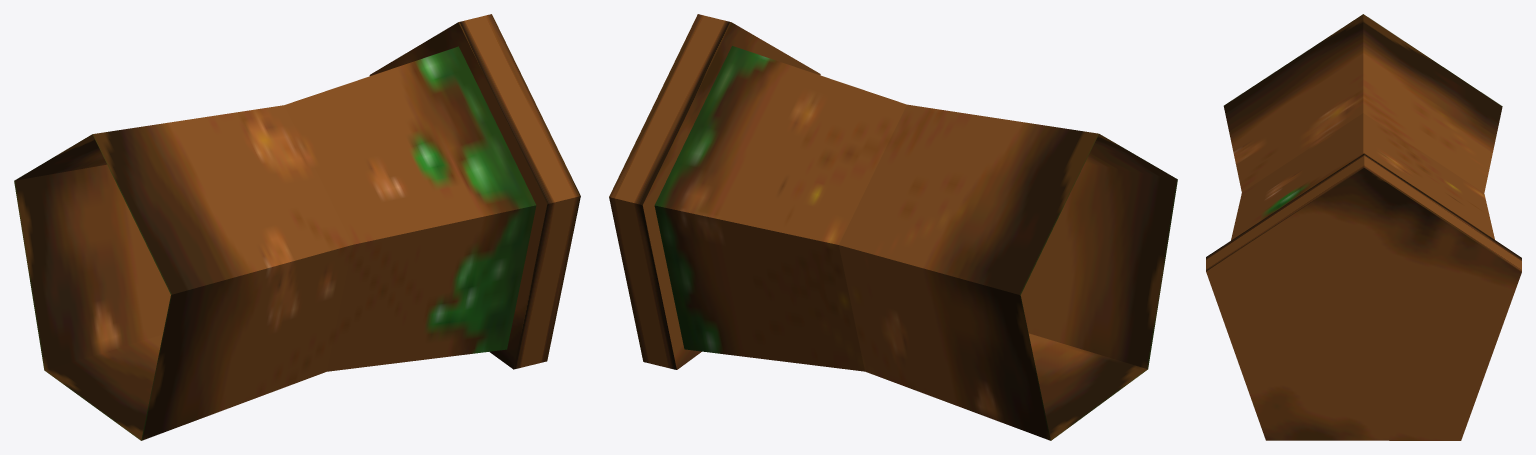
Rendered from Rohr_StückBraunDick_1776.glb.
3 renders of one model, left to right at view 1: azimuth 30°, elevation 25°; view 2: azimuth 150°, elevation 25°; view 3: azimuth 270°, elevation 25°, orthographic. The views are drawn at different scales.
Visible parts, largest first — view 1: pCylinderShape77, pCylinderShape78; view 2: pCylinderShape77, pCylinderShape78; view 3: pCylinderShape78, pCylinderShape77.
Boxes of the visible parts, x1,y1,x2,y2 form: pCylinderShape77: (14, 46, 536, 440); pCylinderShape78: (369, 14, 580, 369); pCylinderShape77: (654, 46, 1177, 440); pCylinderShape78: (609, 14, 820, 369); pCylinderShape78: (1206, 153, 1521, 440); pCylinderShape77: (1223, 14, 1502, 240).
Bounding box in the file's own units: 1.04 × 0.7657 × 0.8023.
2 materials, 2 textured.
